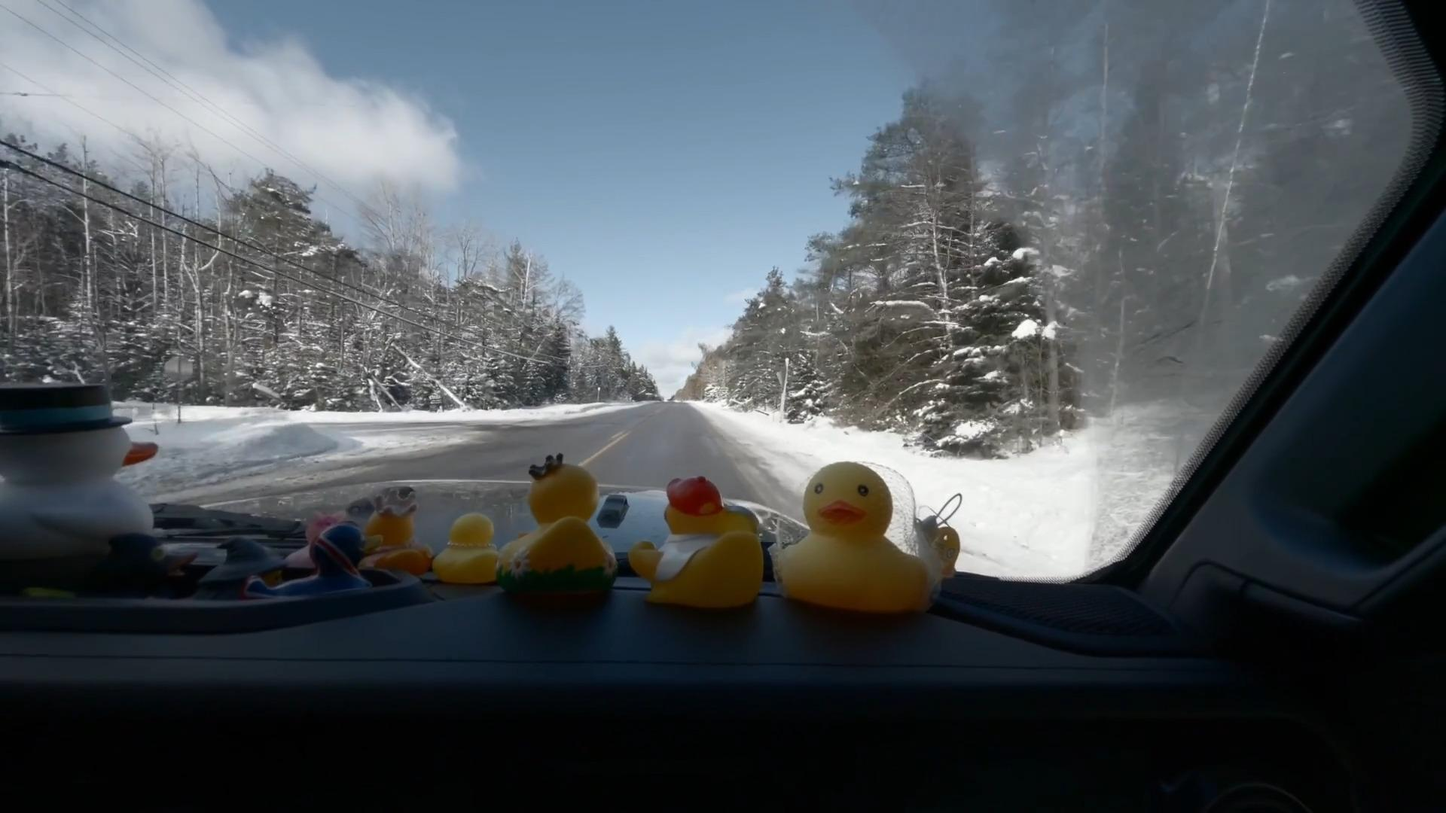Snow: (700, 403, 1161, 577), (130, 402, 630, 484)
dry: (204, 402, 807, 509)
